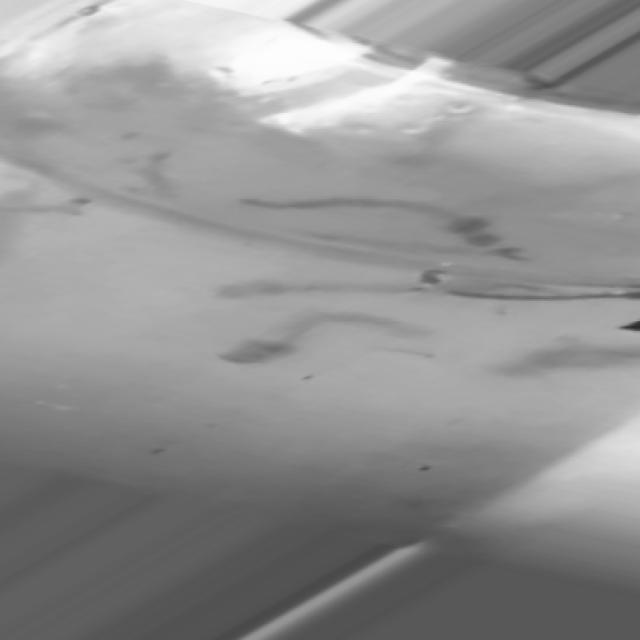larvas: (251, 182, 536, 262), (434, 267, 640, 320), (222, 314, 410, 367), (210, 273, 464, 309), (526, 345, 635, 379), (0, 190, 85, 222)
